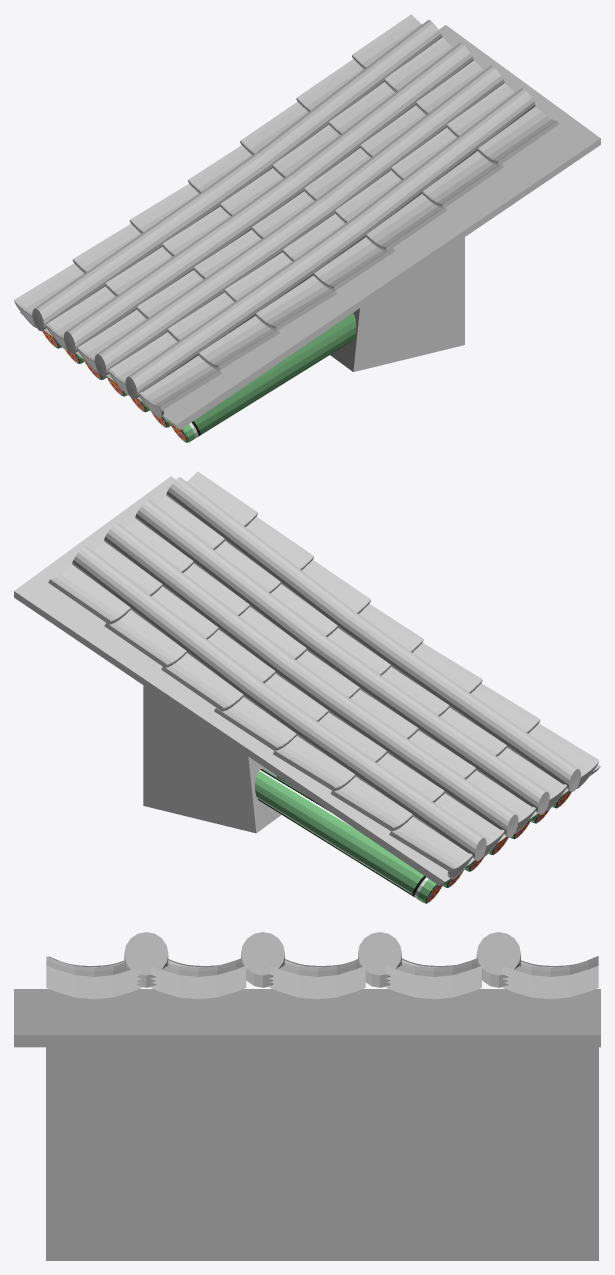
File: SM_Roof_34.fbx
The picture shows the model from 3 angles, top to bottom: view 1: azimuth 30°, elevation 25°; view 2: azimuth 150°, elevation 25°; view 3: azimuth 270°, elevation 25°; orthographic projection. The views are drawn at different scales.
Visible parts, largest first — view 1: SM_Roof_34_LOD0; view 2: SM_Roof_34_LOD0; view 3: SM_Roof_34_LOD0.
Boxes of the visible parts, x1=… form: SM_Roof_34_LOD0: x1=14, y1=14, x2=600, y2=442; SM_Roof_34_LOD0: x1=14, y1=471, x2=600, y2=903; SM_Roof_34_LOD0: x1=14, y1=932, x2=600, y2=1260.
Bounding box in the file's own units: 291 × 180 × 161.
